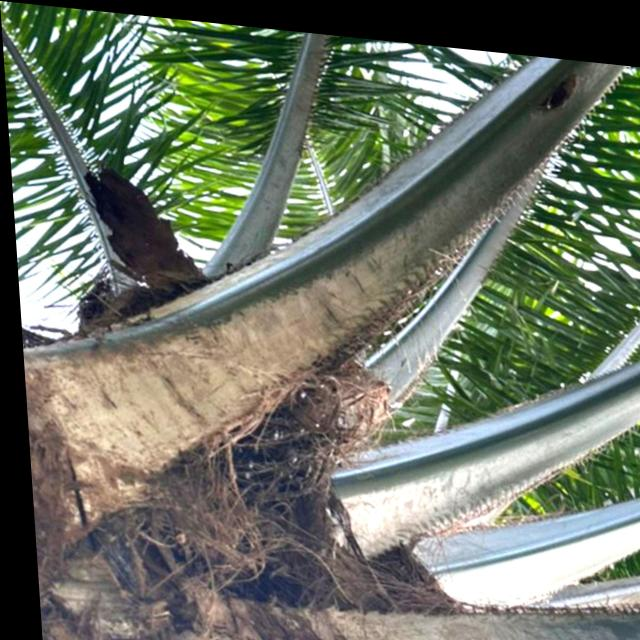unripe: (220, 389, 334, 504)
